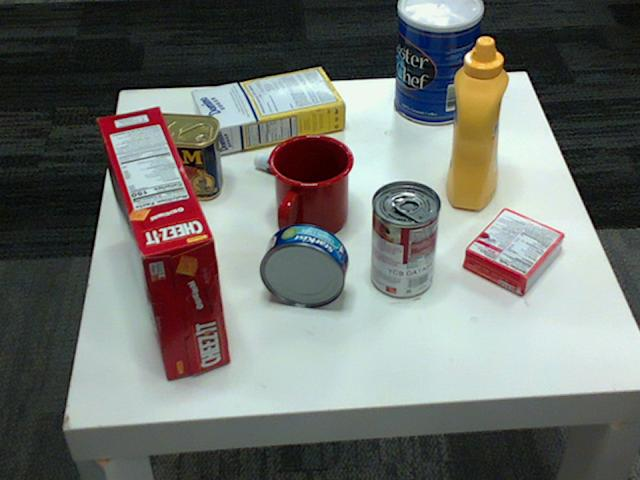cracker_box: (95, 105, 230, 377)
gelatin_box: (463, 208, 564, 295)
large_marker: (252, 155, 345, 195)
master_chef_can: (392, 0, 481, 124)
mug: (269, 131, 355, 235)
mustard_bottle: (445, 38, 508, 209)
potted_meat_can: (124, 113, 223, 200)
sugar_box: (192, 66, 346, 153)
tomato_soup_can: (371, 181, 440, 297)
tuna_fish_can: (260, 224, 349, 306)
